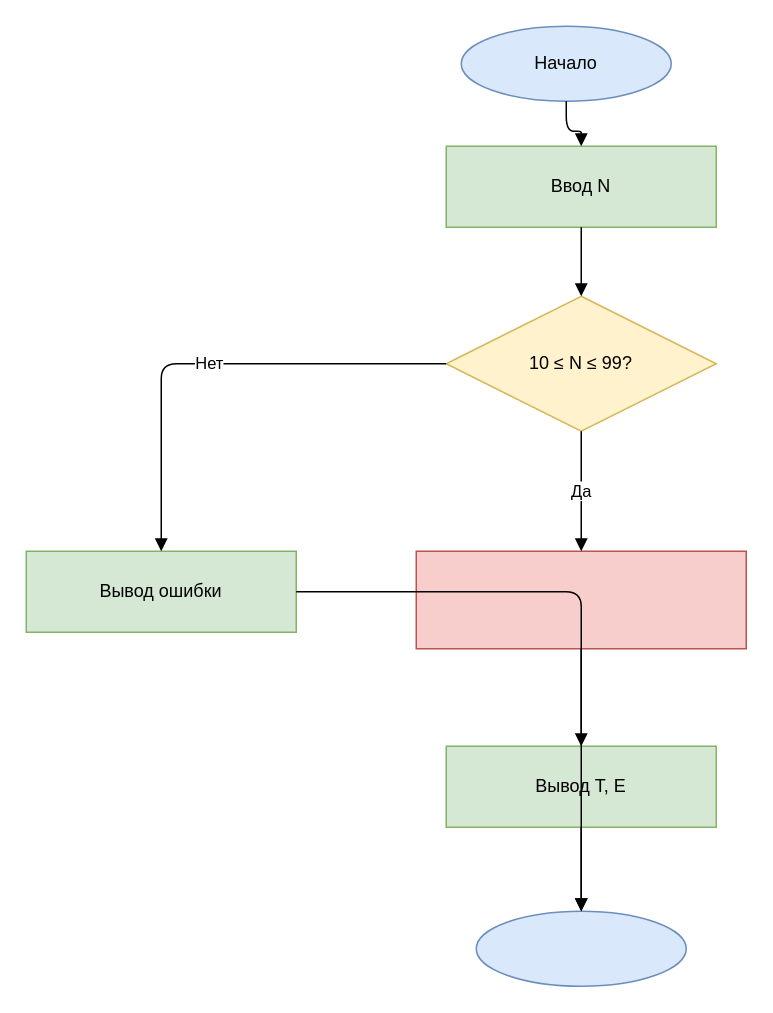
Image size: 773x1013. Some labels were removed from this diagram. The box of each missing label's shape, as (x1, y1, x2, y2) in pixels:
T = N div 10; E = N mod 10: (415, 550, 746, 649)
Конец: (475, 910, 686, 986)
